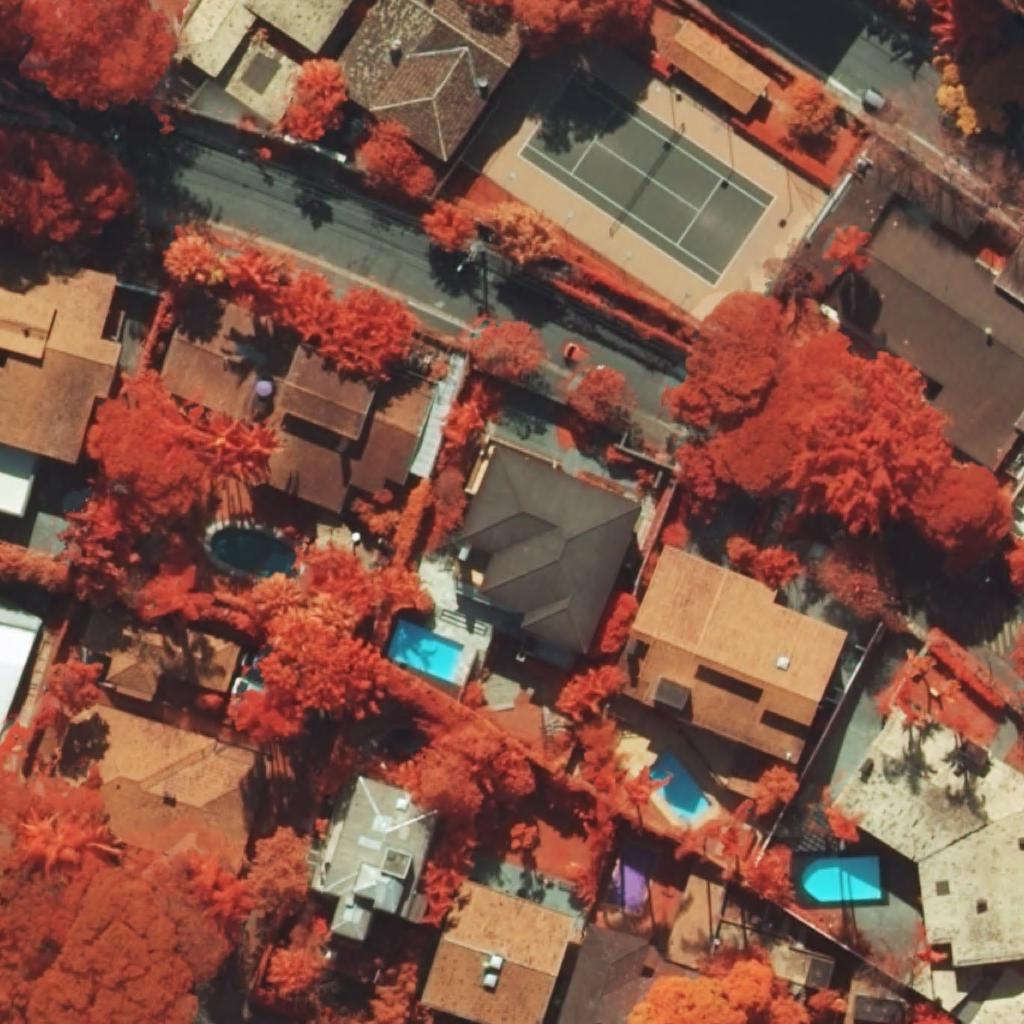pool: (387, 618, 465, 681), (212, 527, 298, 579), (649, 752, 711, 819), (801, 856, 881, 902), (606, 842, 657, 914)
